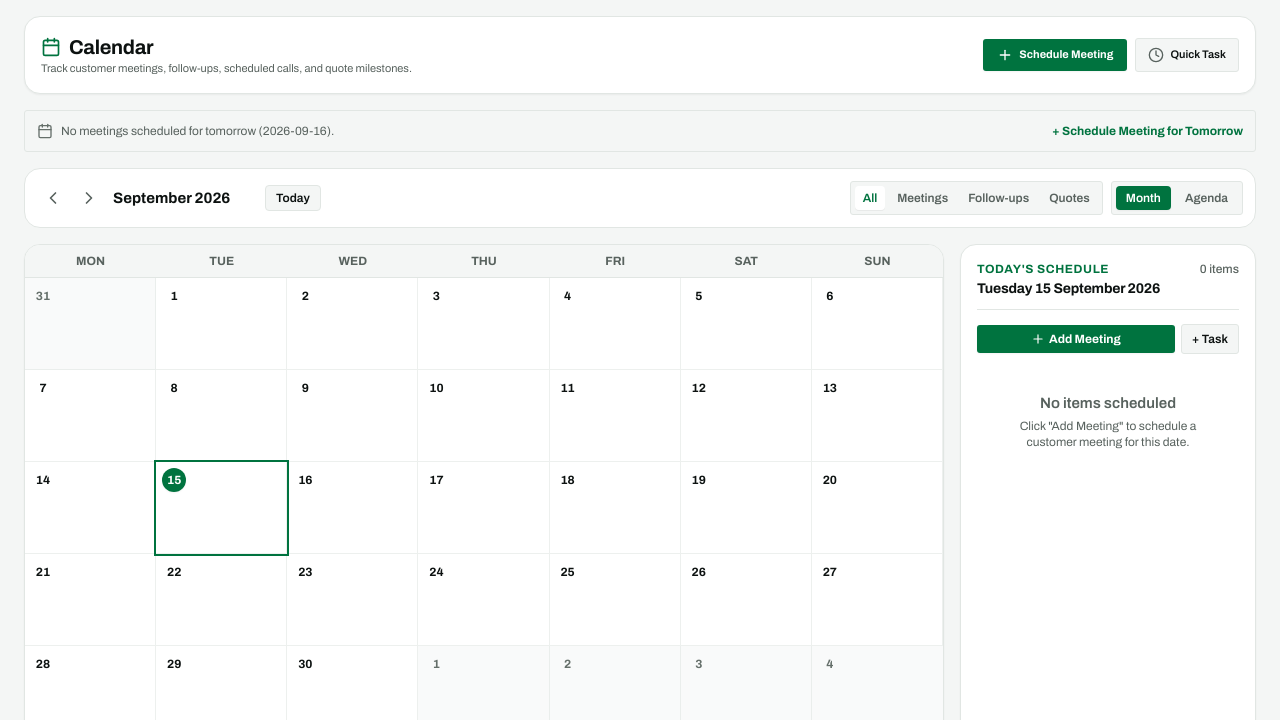
Scenario: CRMCalendarView Component › switches between Month view and Agenda view
Click the button "Agenda" at (1206, 198), box [1175,186,1238,210]
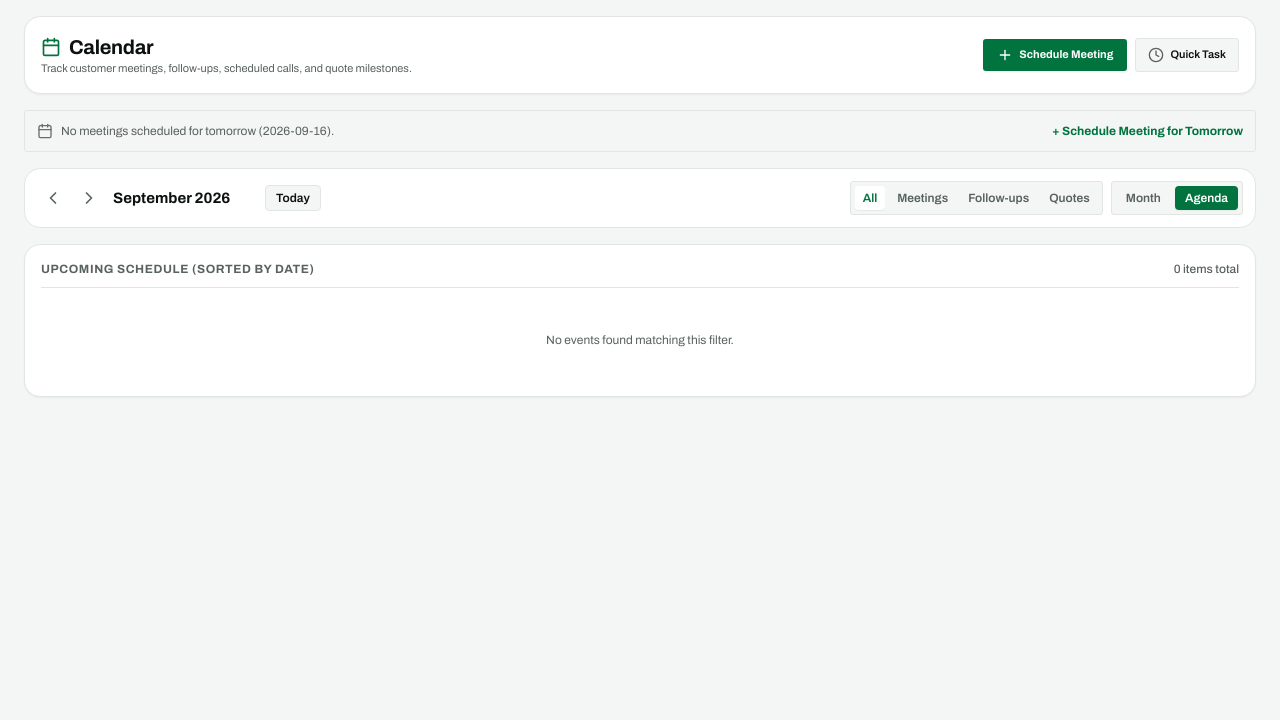
expect the text "Upcoming Schedule (Sorted by Date)" is shown: met, box [41,261,314,277]
Click the button "Month" at (1143, 198), box [1116,186,1171,210]
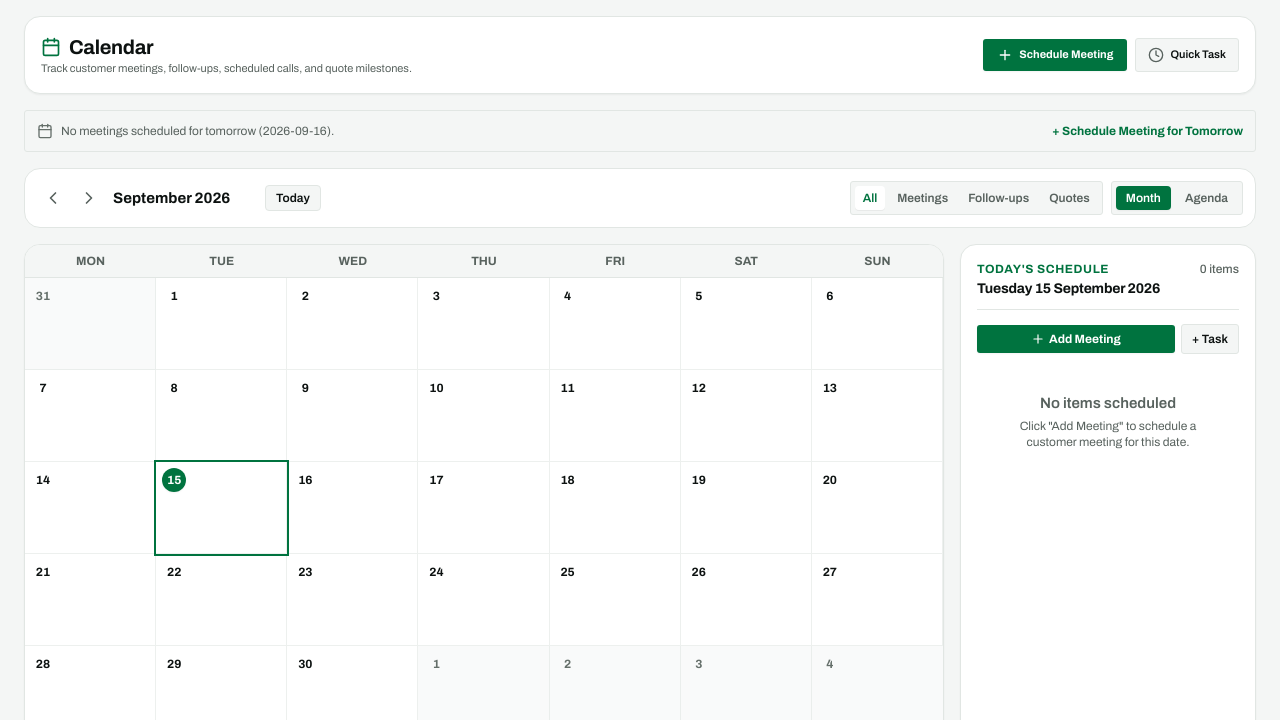
expect the text "Mon" is shown: met, box [76,254,105,268]
expect the text "Fri" is shown: met, box [605,254,625,268]
